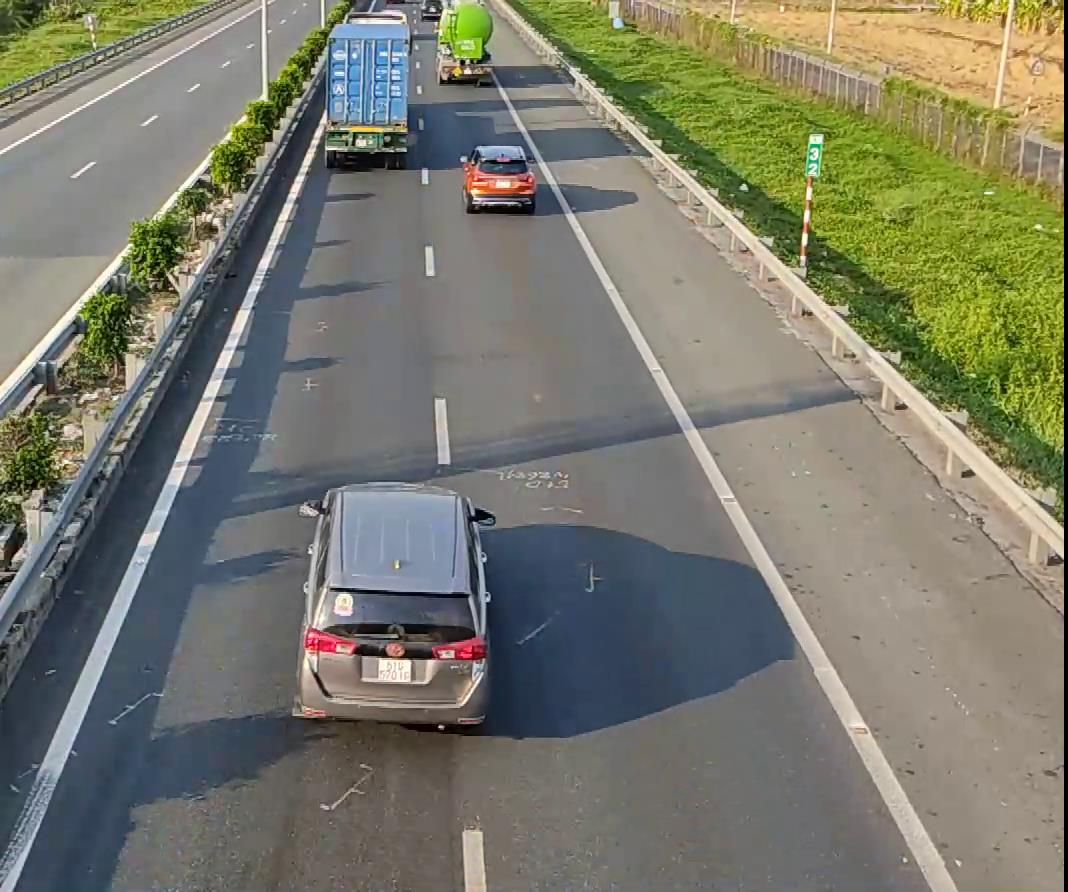car: (293, 476, 494, 728), (461, 144, 537, 212)
container: (320, 1, 412, 165), (433, 0, 493, 84)
